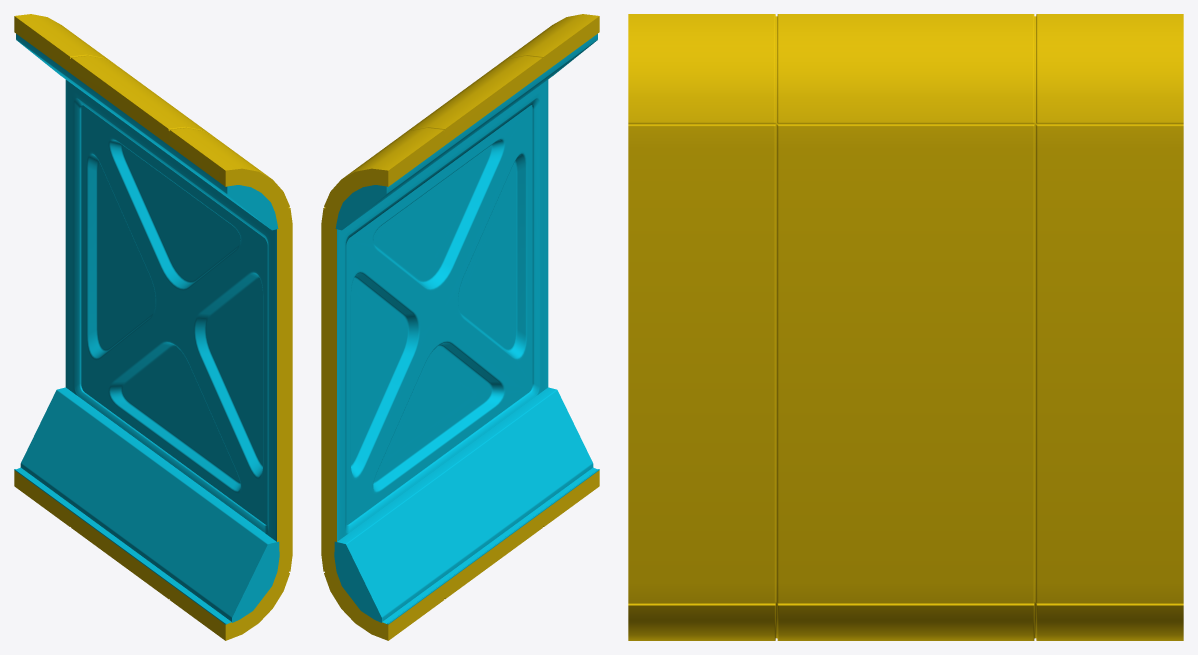
Rendered from Wall02.fbx.
3 views of the same model, side by side, from view 1: azimuth 30°, elevation 25°; view 2: azimuth 150°, elevation 25°; view 3: azimuth 270°, elevation 25° (orthographic). The views are drawn at different scales.
Visible parts, largest first — view 1: SM_Wall02; view 2: SM_Wall02; view 3: SM_Wall02.
Boxes of the visible parts, left/top/right/bottom form: SM_Wall02: left=14, top=14, right=292, bottom=640; SM_Wall02: left=321, top=14, right=599, bottom=640; SM_Wall02: left=628, top=14, right=1183, bottom=640.
Size of the model in its own units: 0.6422 by 4.3 by 3.5.
